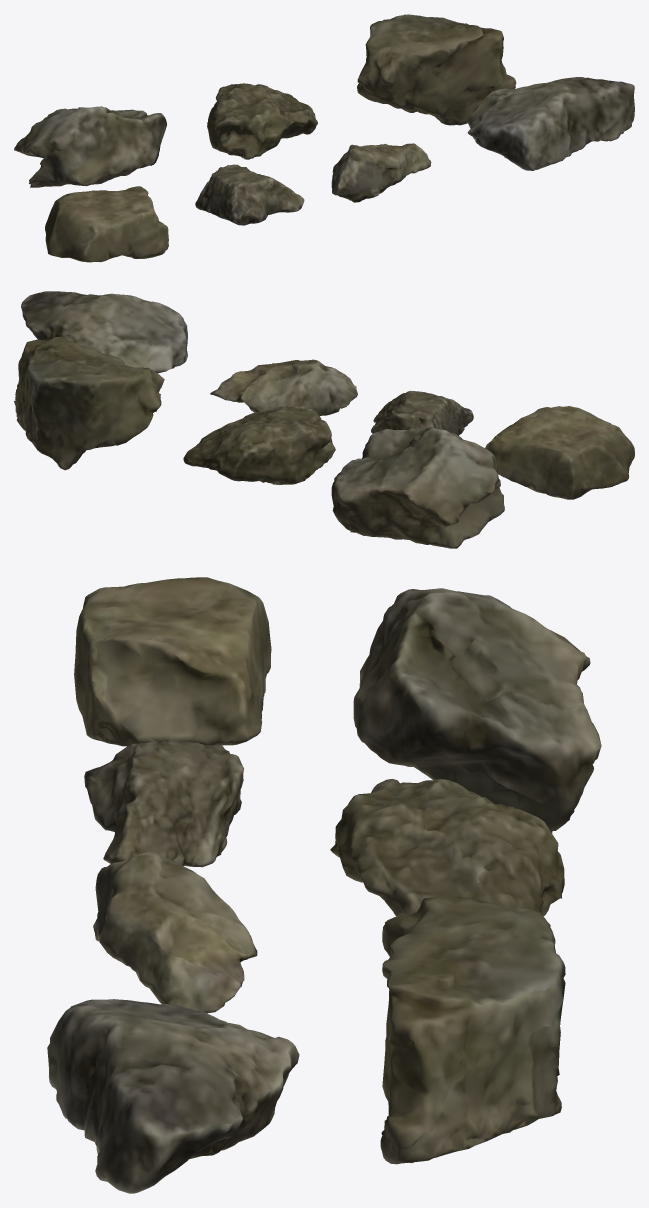
The model's file is rock_moss_set_02_lod1.glb.
3 renders of one model, top to bottom at view 1: azimuth 30°, elevation 25°; view 2: azimuth 150°, elevation 25°; view 3: azimuth 270°, elevation 25°, orthographic. The views are drawn at different scales.
Parts seen in each view (by area): view 1: rock_moss_set_02_rock08; view 2: rock_moss_set_02_rock08; view 3: rock_moss_set_02_rock08.
Boxes of the visible parts, x1,y1,x2,y2 form: rock_moss_set_02_rock08: [14, 14, 634, 262]; rock_moss_set_02_rock08: [14, 291, 634, 548]; rock_moss_set_02_rock08: [47, 577, 601, 1193].
Size of the model in its own units: 8.28 by 1.37 by 3.41.
Materials: 1 (1 with a texture image).
